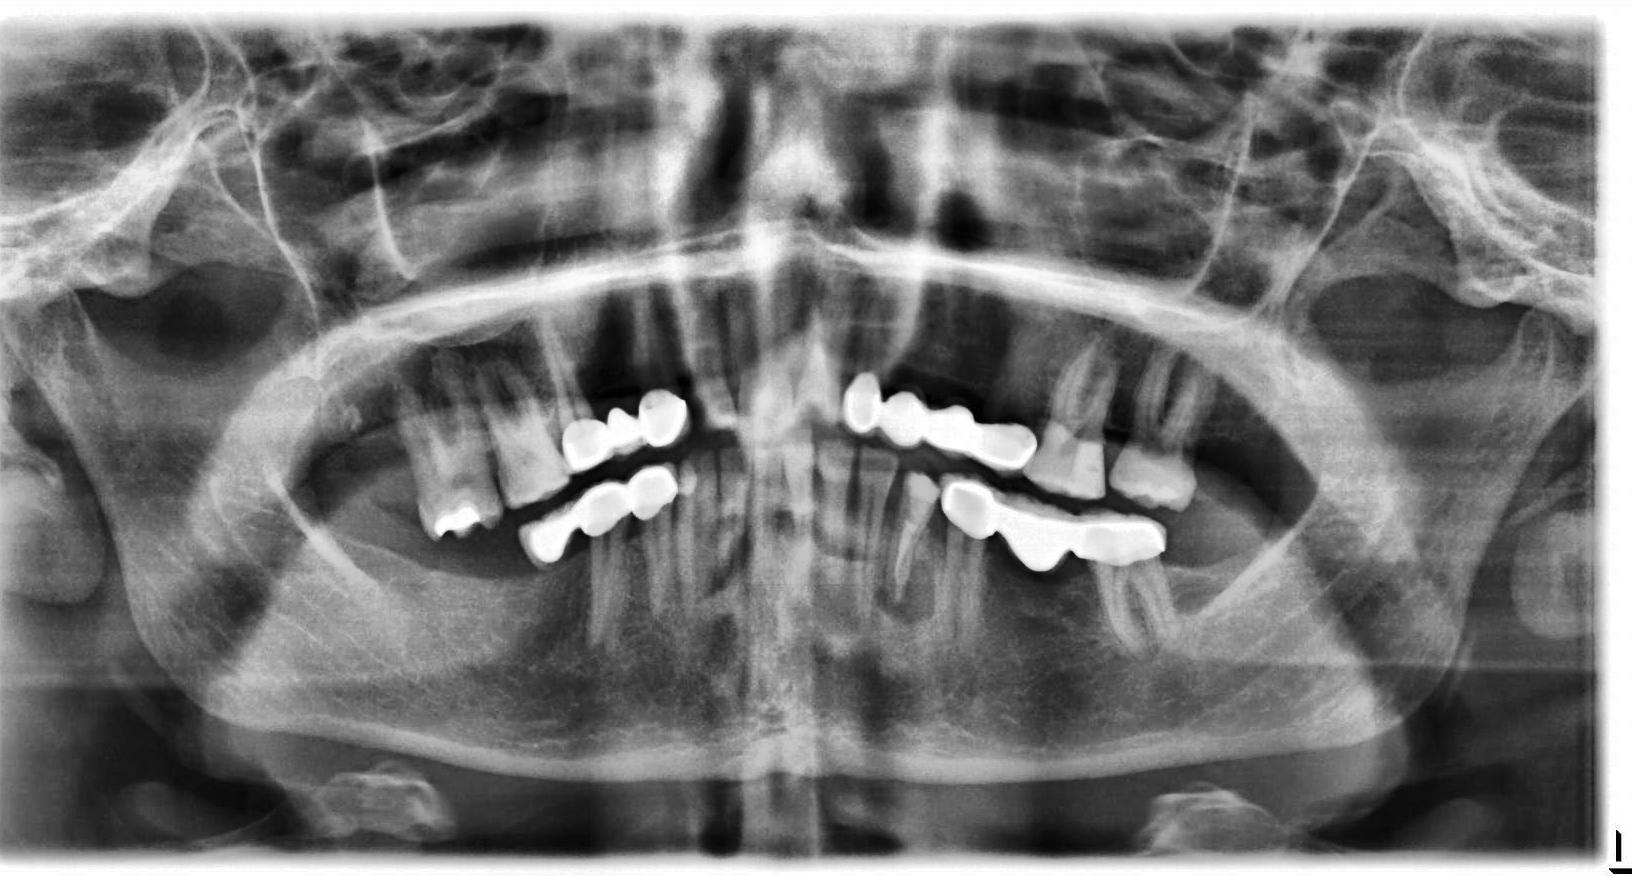radikuler: (870, 559, 936, 626)
